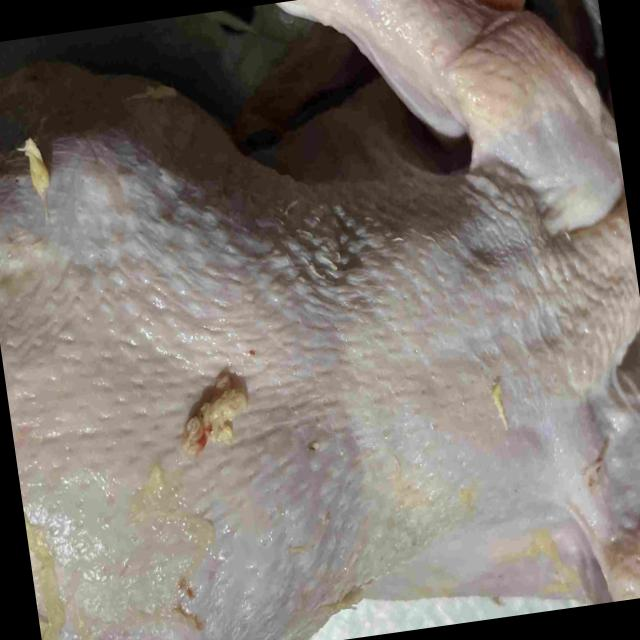back: (0, 183, 573, 620)
leg: (0, 60, 245, 200), (41, 571, 315, 640)
neck: (577, 176, 640, 366)
wing: (288, 0, 618, 226), (580, 391, 640, 604)
